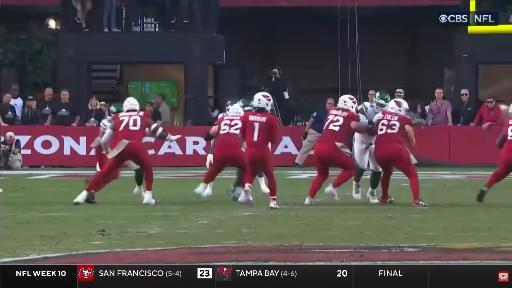Helmet: (253, 92, 273, 111), (388, 99, 409, 115), (374, 91, 390, 112), (337, 95, 357, 111), (123, 98, 139, 111), (228, 104, 243, 115), (238, 100, 252, 111), (226, 100, 237, 112), (110, 103, 122, 114), (509, 105, 511, 114)
Jersey: (318, 108, 359, 146), (374, 112, 413, 148), (241, 112, 278, 148), (112, 111, 150, 146), (213, 116, 242, 154), (358, 102, 378, 119), (503, 118, 511, 153), (100, 116, 112, 134), (218, 113, 227, 119)
Player: (74, 98, 180, 204), (305, 95, 368, 205), (374, 99, 427, 207), (194, 104, 245, 197), (239, 92, 278, 208), (477, 106, 511, 202), (353, 132, 381, 203), (125, 162, 143, 199), (227, 100, 253, 112)
